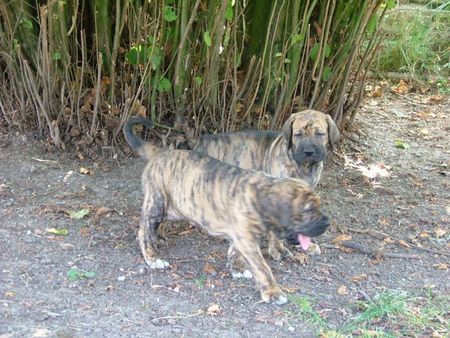fila_brasileiro: (123, 117, 332, 304), (169, 108, 341, 262)
